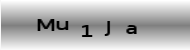1: (80, 24, 93, 37)
J: (103, 20, 111, 36)
M: (36, 18, 55, 32)
a: (125, 24, 138, 35)
u: (55, 20, 69, 31)
